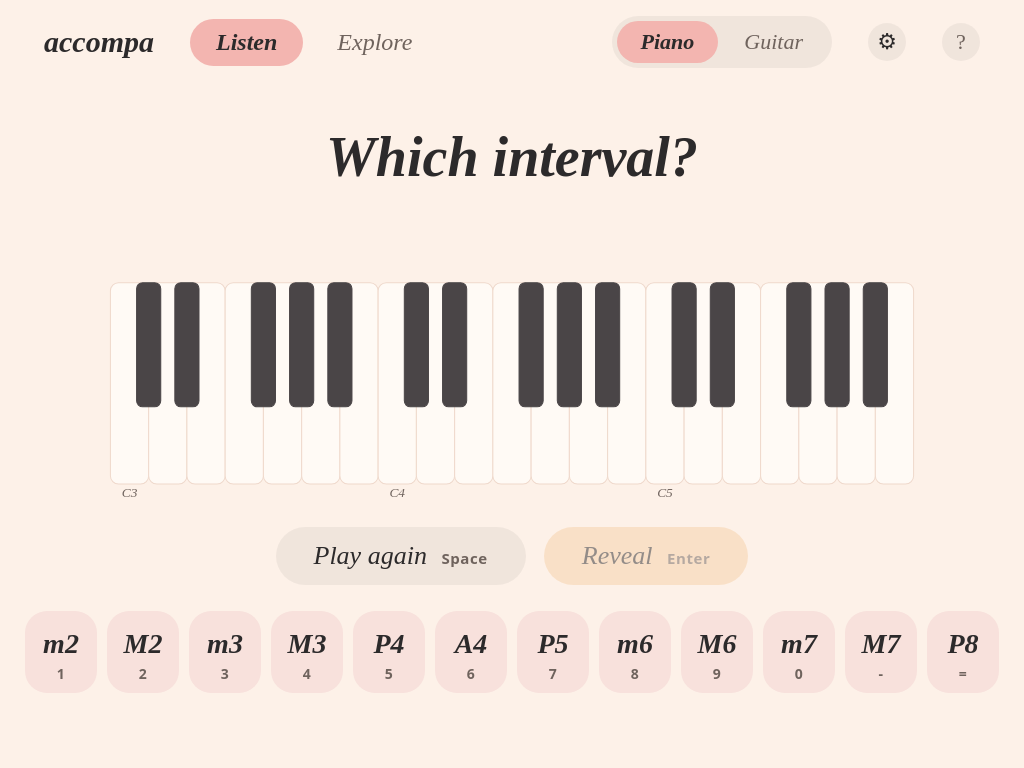
direction › shows a labelled Direction group with Ascending selected
Click the button named "Setup" at (887, 42), box top-left (868, 23), bottom-right (906, 61)
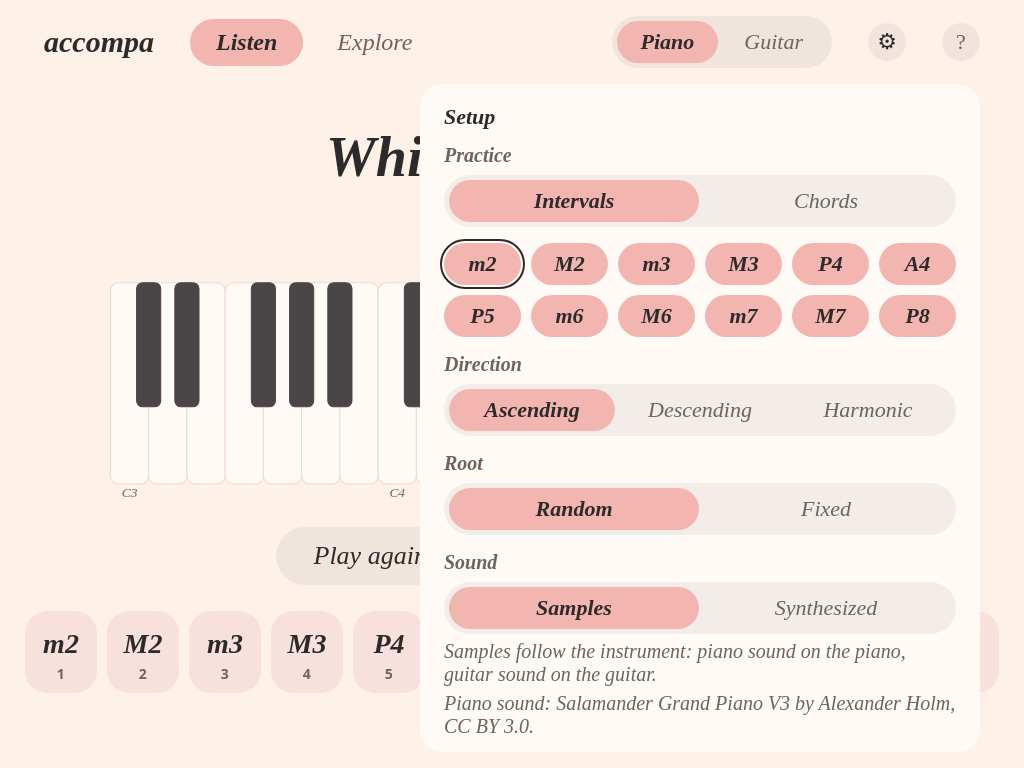
Check: the element named "Direction" is shown, box top-left (444, 384), bottom-right (956, 436)
Check: the radio button labelled "Ascending" is checked, box top-left (449, 389), bottom-right (615, 431)
Check: the radio button labelled "Descending" is not checked, box top-left (648, 397), bottom-right (752, 422)
